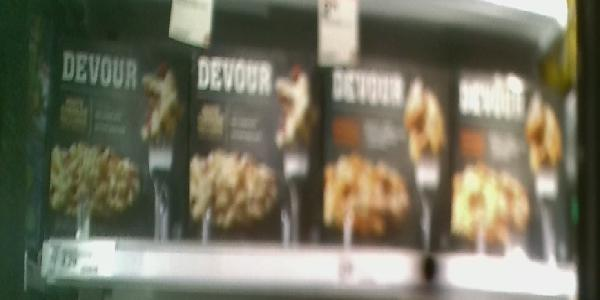pizza1: (179, 39, 292, 245), (316, 67, 434, 254), (54, 38, 159, 237), (459, 73, 559, 281)
